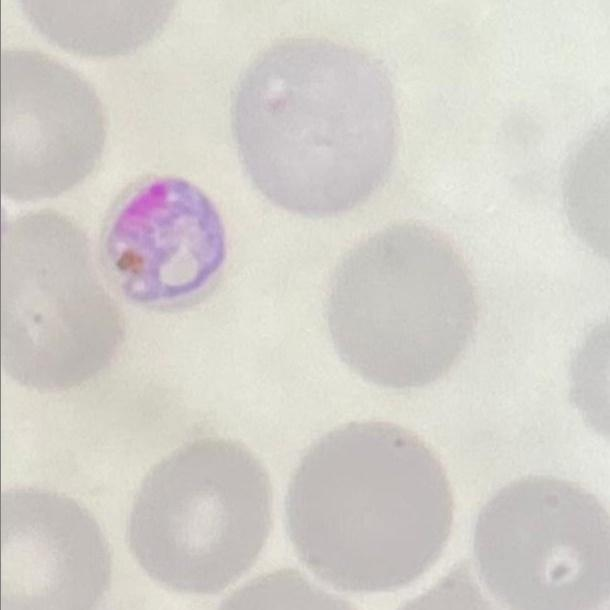Infected: (98, 167, 231, 316)
Uninfected: (285, 421, 453, 595), (233, 36, 396, 209), (330, 219, 472, 384), (130, 437, 269, 599), (0, 209, 119, 396), (472, 472, 610, 610), (0, 46, 107, 198), (0, 482, 109, 610)
